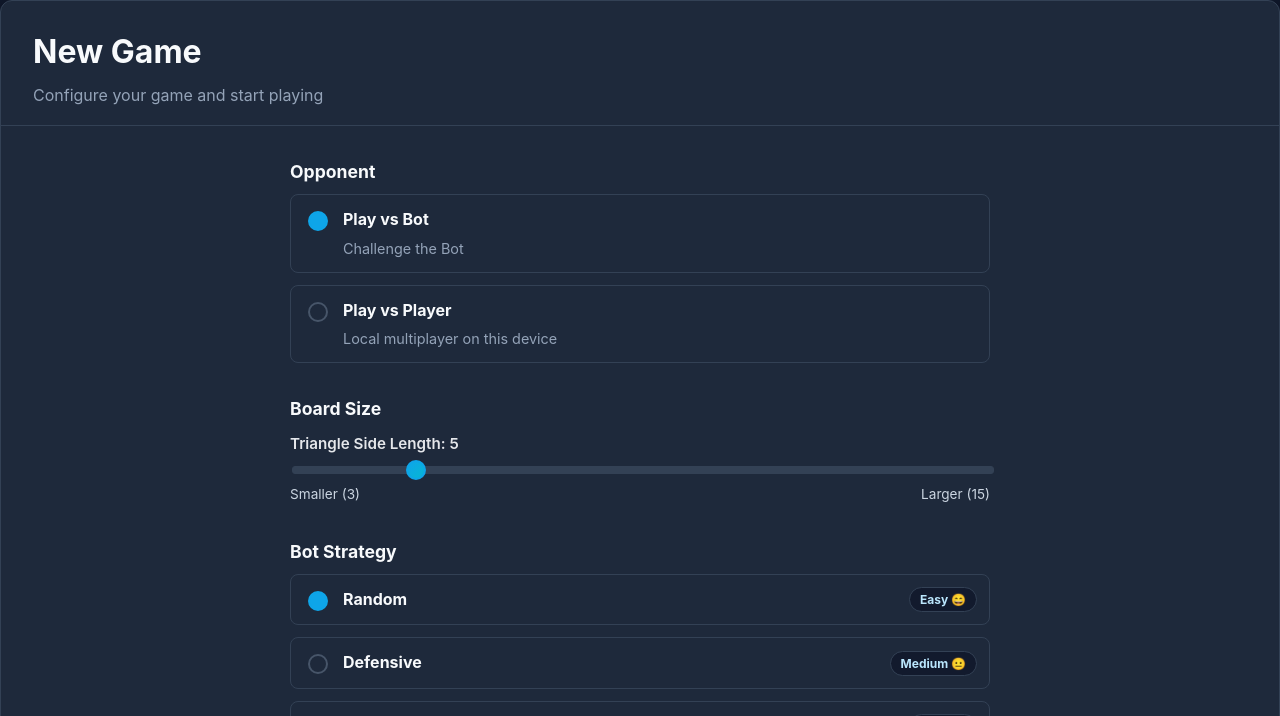
Test: NewGamePage — validation › submitting Player mode without opponent name shows error
The image size is (1280, 716).
Step 1. Click the radio button labelled "Play vs Player Local multiplayer on this device" → (318, 312), box [308,302,328,322]
(page scrolled)
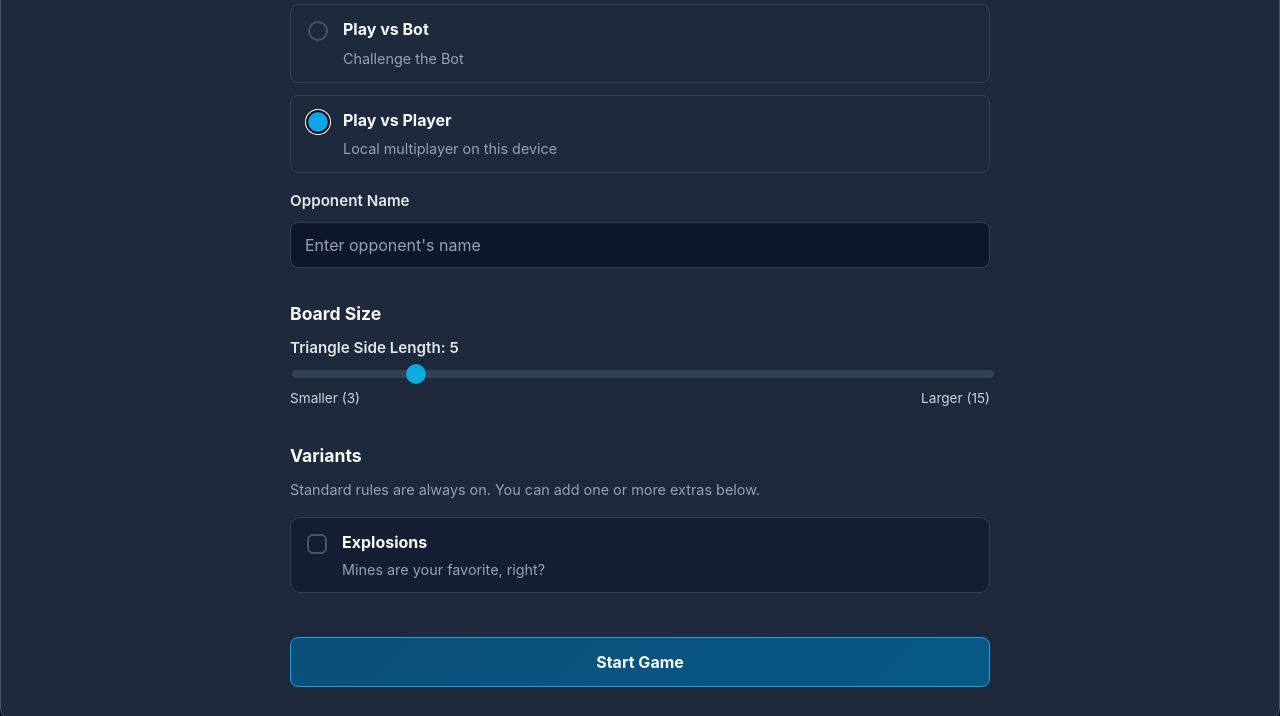
Step 2. Click the button "Start Game" → (640, 662), box [290,637,990,687]
(page scrolled)
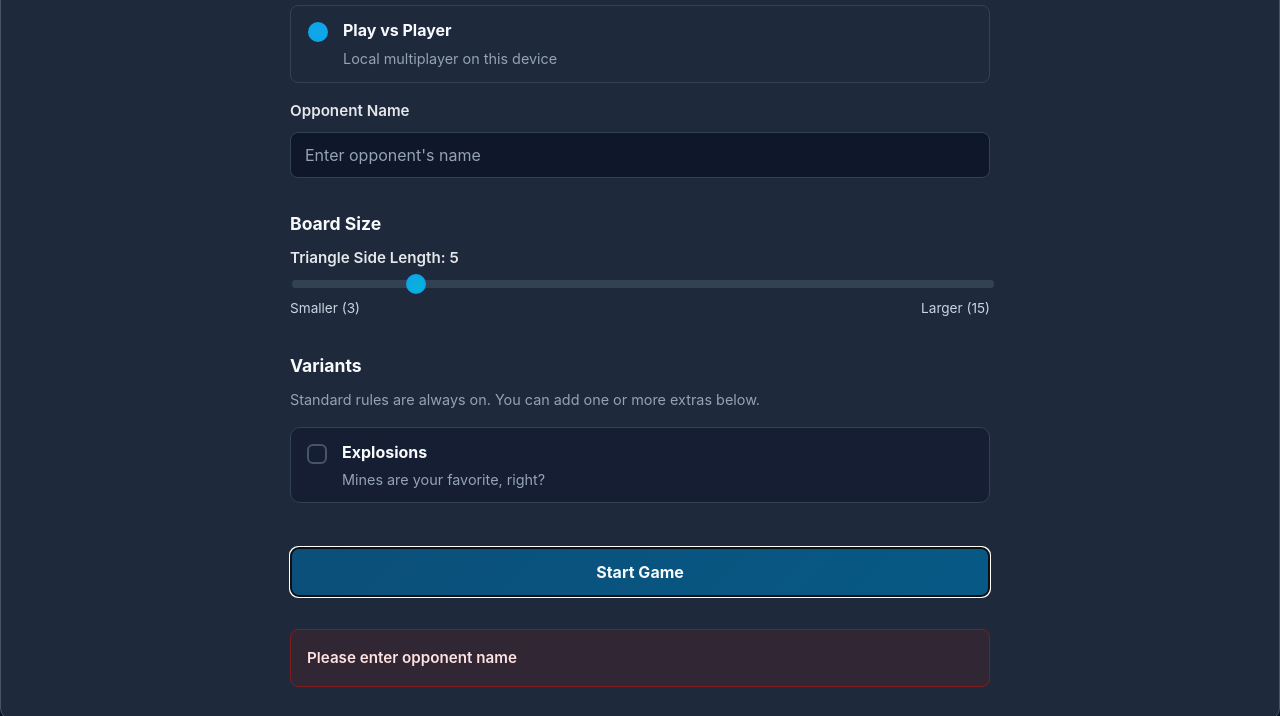
Result: the text "Please enter opponent name" is shown at [290,629,990,687]
